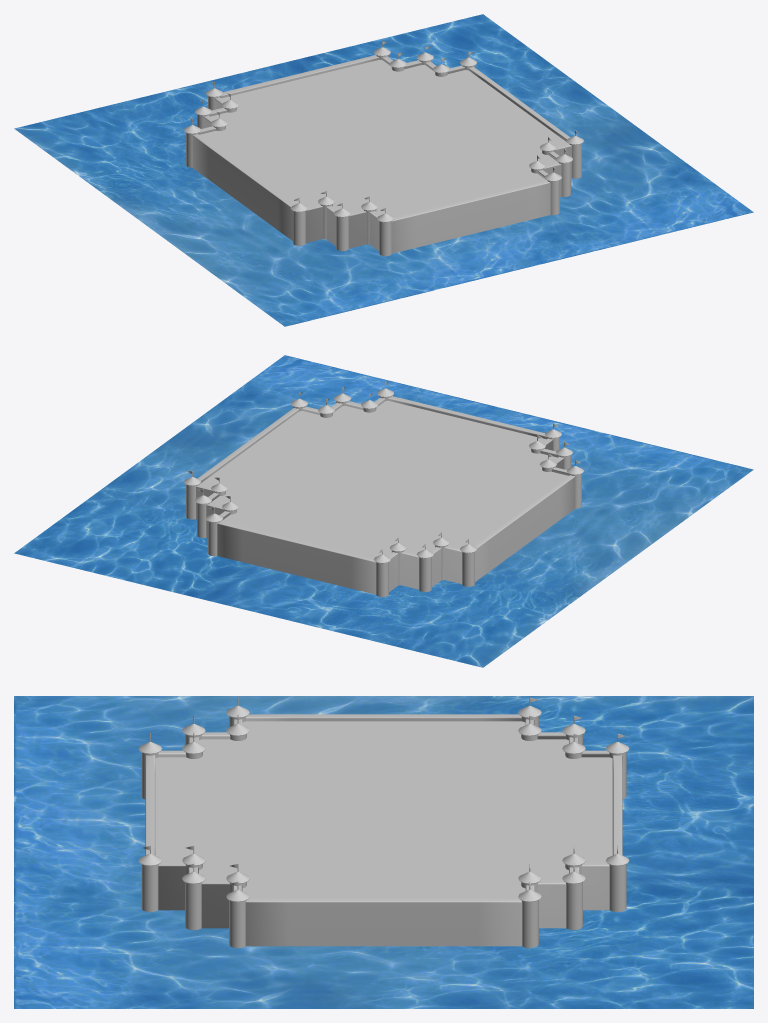
The model's file is Map.fbx.
3 views of the same model, one above another, from view 1: azimuth 30°, elevation 25°; view 2: azimuth 150°, elevation 25°; view 3: azimuth 270°, elevation 25° (orthographic). The views are drawn at different scales.
Visible parts, largest first — view 1: Sea, Floor, Wall, polySurface6, polySurface30, polySurface18, polySurface12, polySurface31; view 2: Sea, Floor, Wall, polySurface6, polySurface30, polySurface18, polySurface12, polySurface31; view 3: Sea, Floor, Wall, polySurface30, polySurface6, polySurface18, polySurface12, polySurface31.
Part boxes in pixels (left/top/right/bottom): Sea: left=14, top=14, right=753, bottom=326; Floor: left=199, top=59, right=568, bottom=217; Wall: left=192, top=55, right=571, bottom=253; polySurface6: left=184, top=51, right=583, bottom=245; polySurface30: left=206, top=41, right=561, bottom=256; polySurface18: left=195, top=46, right=572, bottom=251; polySurface12: left=211, top=58, right=556, bottom=239; polySurface31: left=222, top=53, right=545, bottom=244; Sea: left=14, top=355, right=753, bottom=667; Floor: left=199, top=400, right=568, bottom=558; Wall: left=196, top=396, right=575, bottom=594; polySurface6: left=184, top=392, right=583, bottom=586; polySurface30: left=206, top=381, right=561, bottom=597; polySurface18: left=195, top=387, right=572, bottom=592; polySurface12: left=211, top=398, right=556, bottom=580; polySurface31: left=222, top=393, right=545, bottom=585; Sea: left=14, top=696, right=753, bottom=1008; Floor: left=155, top=721, right=612, bottom=898; Wall: left=145, top=714, right=622, bottom=946; polySurface30: left=138, top=732, right=629, bottom=912; polySurface6: left=226, top=697, right=541, bottom=948; polySurface18: left=182, top=715, right=585, bottom=930; polySurface12: left=226, top=715, right=541, bottom=892; polySurface31: left=182, top=733, right=585, bottom=874.
Bounding box in the file's own units: 41.89 × 3.91 × 41.89.
